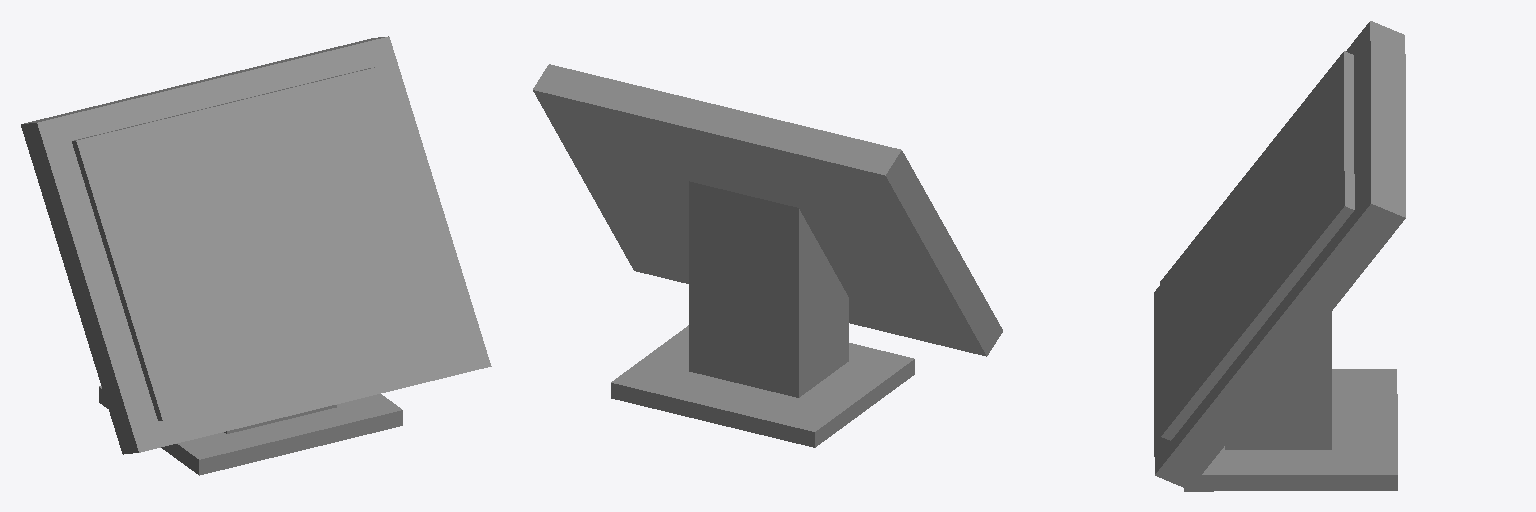
robot.urdf — register.urdf:
<?xml version="1.0" ?>
<robot name="register.urdf">
  <material name="Light Grey">
    <color rgba=".6 .6 .6 1"/>
  </material>
  <link name="baseLink">
    <contact>
      <lateral_friction value="1.0"/>
    </contact>
    <inertial>
      <origin rpy="0 0 0" xyz="0 0 0"/>
      <mass value=".0"/>
      <inertia ixx="1" ixy="0" ixz="0" iyy="1" iyz="0" izz="1"/>
    </inertial>
    <visual>
      <origin rpy="0 0 -3.14" xyz="0 0 0"/>
      <geometry>
        <mesh filename="register.obj" scale=".1 .1 .08"/>
      </geometry>
      <material name="Light Grey"/>
    </visual>
    <collision>
      <origin rpy="0 0 -3.14" xyz="0 0 0"/>
      <geometry>
        <mesh filename="register.obj" scale=".1 .1 .08"/>
      </geometry>
    </collision>
  </link>
</robot>

--- Render facts (derived) ---
The picture shows the robot from 3 angles, left to right: view 1: azimuth 30°, elevation 25°; view 2: azimuth 150°, elevation 25°; view 3: azimuth 270°, elevation 25°; orthographic projection.
Model register.urdf with 1 links and 0 joints (none), rooted at baseLink, posed every joint at zero.
Visible links, largest first — view 1: baseLink; view 2: baseLink; view 3: baseLink.
Link boxes in pixels (<box>): baseLink: <box>21,36,491,475</box>; baseLink: <box>533,64,1002,447</box>; baseLink: <box>1154,21,1405,491</box>.
Size in the robot's own frame: 0.3753 by 0.2184 by 0.3119 metres.
Meshes: 1 distinct files referenced, 1 mesh visuals loaded (1 OBJ).